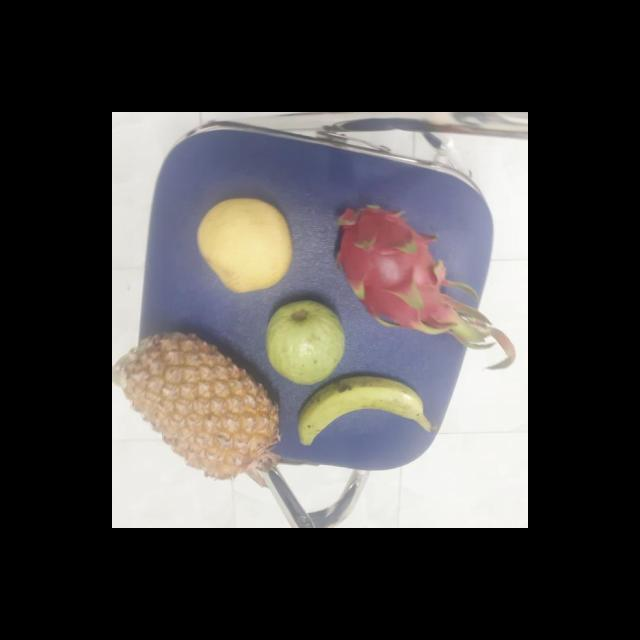banana: (292, 375, 427, 455)
guava: (264, 300, 346, 384)
pear: (191, 199, 293, 295)
pineapple: (113, 337, 272, 480)
pitaya: (326, 201, 465, 332)
